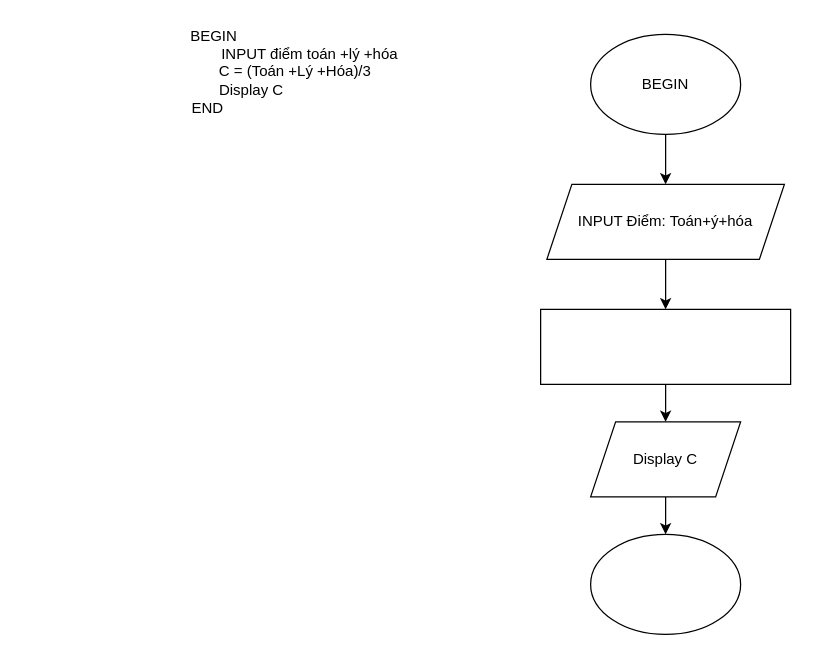
This 813x656 diagram has some shape labels left out. The centre of each missing label's shape, as x and y in pixels:
C = (Toán + Lý +Hóa)/3: pixel 665 346
END: pixel 665 583
